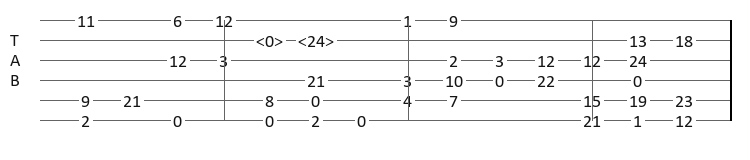0: (173, 113, 186, 128), (265, 113, 278, 128), (311, 93, 324, 108), (357, 113, 370, 128), (495, 73, 508, 88), (633, 73, 646, 88)
1: (403, 13, 416, 28), (633, 113, 646, 128)
10: (445, 73, 467, 88)
11: (77, 13, 99, 28)
12: (169, 53, 191, 68), (215, 13, 237, 28), (537, 53, 559, 68), (583, 53, 605, 68), (675, 113, 697, 128)
13: (629, 33, 651, 48)
15: (583, 93, 605, 108)
18: (675, 33, 697, 48)
19: (629, 93, 651, 108)
2: (81, 113, 94, 128), (311, 113, 324, 128), (449, 53, 462, 68)
21: (123, 93, 145, 108), (307, 73, 329, 88), (583, 113, 605, 128)
22: (537, 73, 559, 88)
23: (675, 93, 697, 108)
24: (629, 53, 651, 68)
3: (219, 53, 232, 68), (403, 73, 416, 88), (495, 53, 508, 68)
4: (403, 93, 416, 108)
6: (173, 13, 186, 28)
7: (449, 93, 462, 108)
8: (265, 93, 278, 108)
9: (81, 93, 94, 108), (449, 13, 462, 28)
harmonic: (298, 33, 338, 48), (256, 33, 287, 48)
